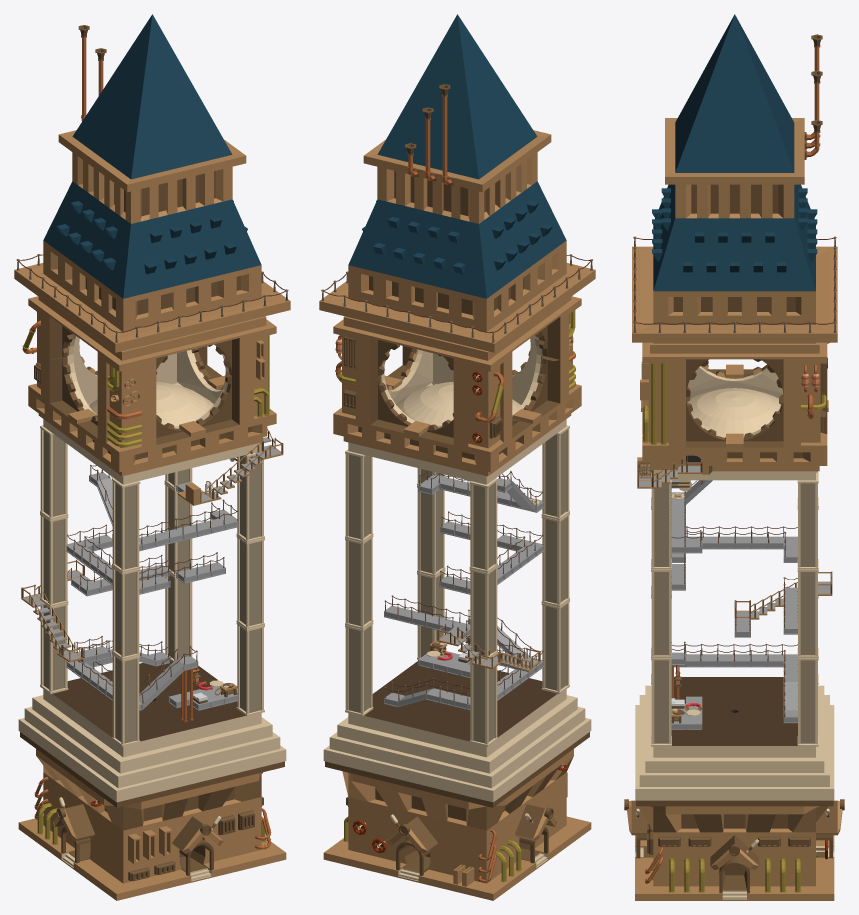
File: MainTower_and_StaticGamePlay_Handle_Gate_BrokenRunes_.fbx
3 renders of one model, left to right at view 1: azimuth 30°, elevation 25°; view 2: azimuth 150°, elevation 25°; view 3: azimuth 270°, elevation 25°, orthographic.
Visible parts, largest first — view 1: MainTower, StaticGamePlay; view 2: MainTower, StaticGamePlay; view 3: MainTower, StaticGamePlay.
Part boxes in pixels (<box>): MainTower: <box>14,14,290,900</box>; StaticGamePlay: <box>21,428,283,722</box>; MainTower: <box>319,14,595,900</box>; StaticGamePlay: <box>384,470,543,710</box>; MainTower: <box>624,14,844,900</box>; StaticGamePlay: <box>637,455,832,729</box>.
Bounding box in the file's own units: 135 × 573 × 135.
